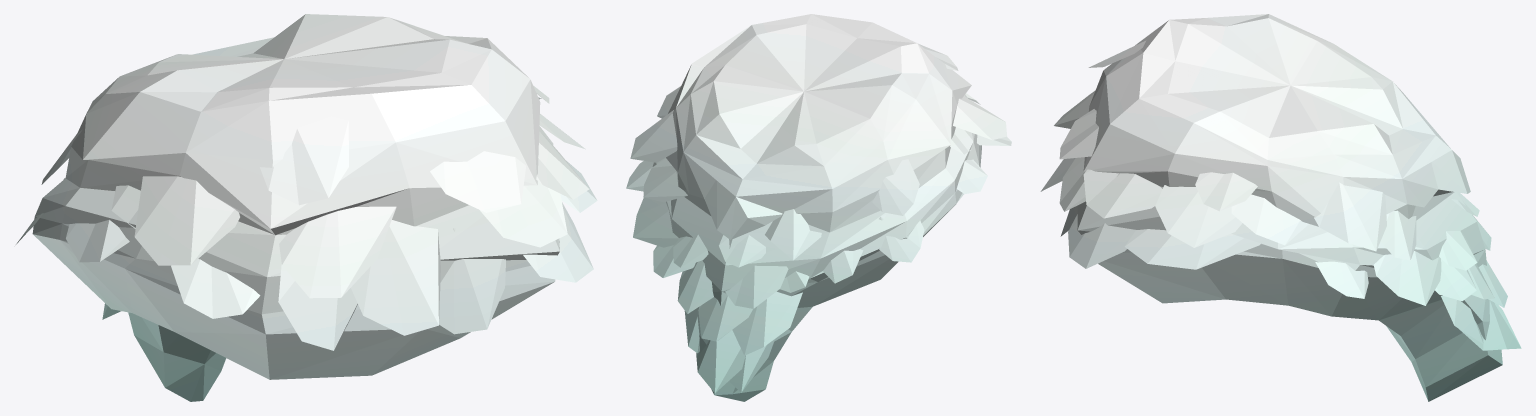
The model's file is CharSkyKid_Neck_AP12Scales_01.glb.
3 renders of one model, left to right at view 1: azimuth 30°, elevation 25°; view 2: azimuth 150°, elevation 25°; view 3: azimuth 270°, elevation 25°, orthographic. The views are drawn at different scales.
Parts seen in each view (by area): view 1: CharSkyKid_Neck_AP12Scales_01; view 2: CharSkyKid_Neck_AP12Scales_01; view 3: CharSkyKid_Neck_AP12Scales_01.
Part boxes in pixels (x1,y1,x2,y2): CharSkyKid_Neck_AP12Scales_01: (16, 14, 597, 401); CharSkyKid_Neck_AP12Scales_01: (626, 14, 1011, 401); CharSkyKid_Neck_AP12Scales_01: (1040, 14, 1521, 401).
Bounding box in the file's own units: 2.9 × 2.63 × 3.34.
1 material, 1 textured.
